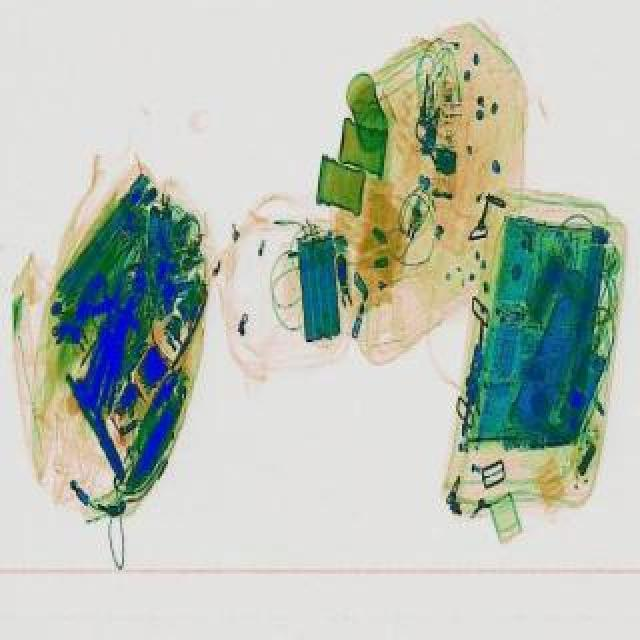wrench: (64, 376, 128, 488)
